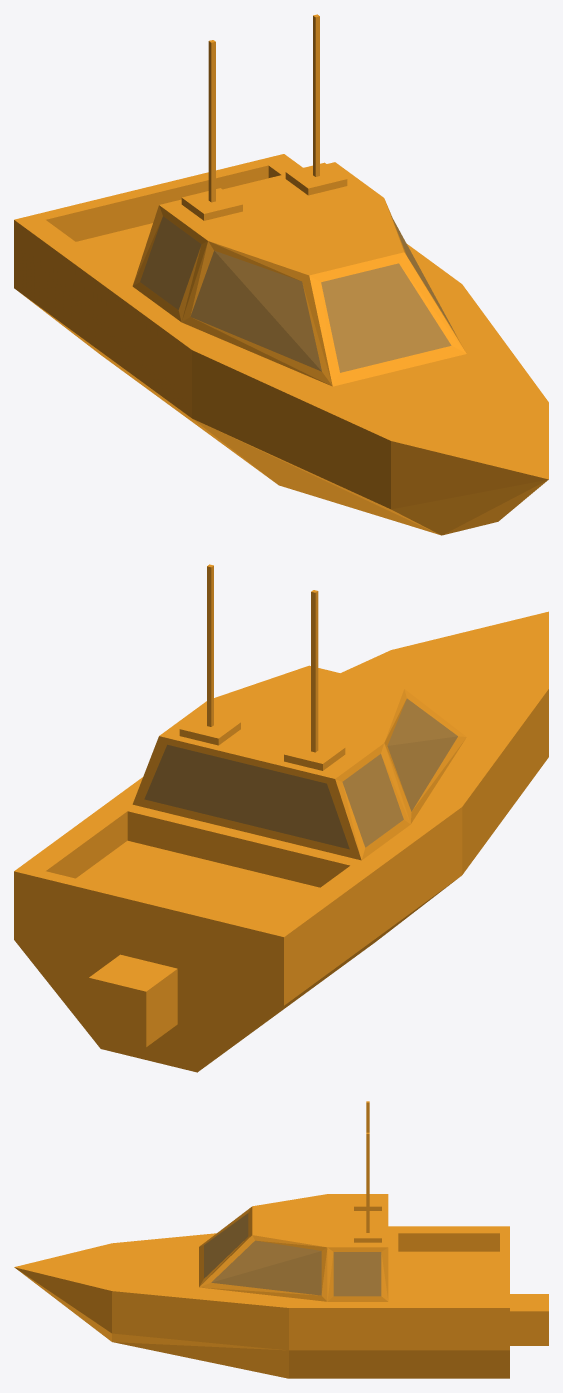
File: SM_Icon_Boat_01.fbx
3 renders of one model, top to bottom at view 1: azimuth 30°, elevation 25°; view 2: azimuth 150°, elevation 25°; view 3: azimuth 270°, elevation 25°, orthographic. The views are drawn at different scales.
Visible parts, largest first — view 1: SM_Icon_Boat_01; view 2: SM_Icon_Boat_01; view 3: SM_Icon_Boat_01.
Part boxes in pixels (<box>): SM_Icon_Boat_01: <box>14,14,548,535</box>; SM_Icon_Boat_01: <box>14,564,548,1072</box>; SM_Icon_Boat_01: <box>14,1101,548,1378</box>.
Bounding box in the file's own units: 46.92 × 66.09 × 130.
